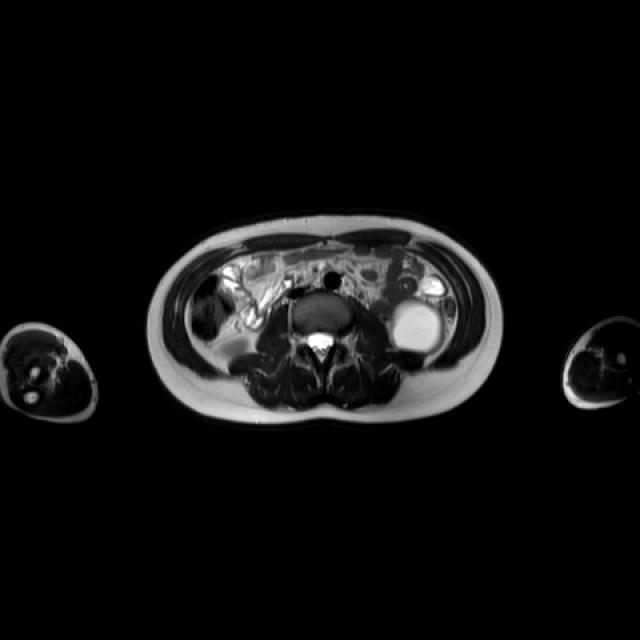sag: (217, 339, 252, 354)
sol: (394, 299, 444, 351)
